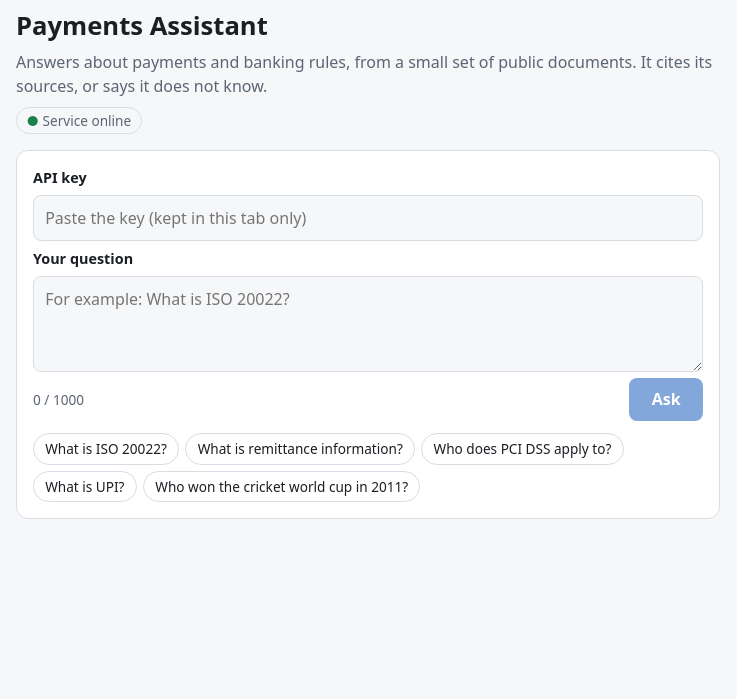
Test: the page › shows a refusal as a refusal, with the reason
Type "Who won?" into the text box labelled "Your question". click: (368, 324)
box: [33,276,703,372]
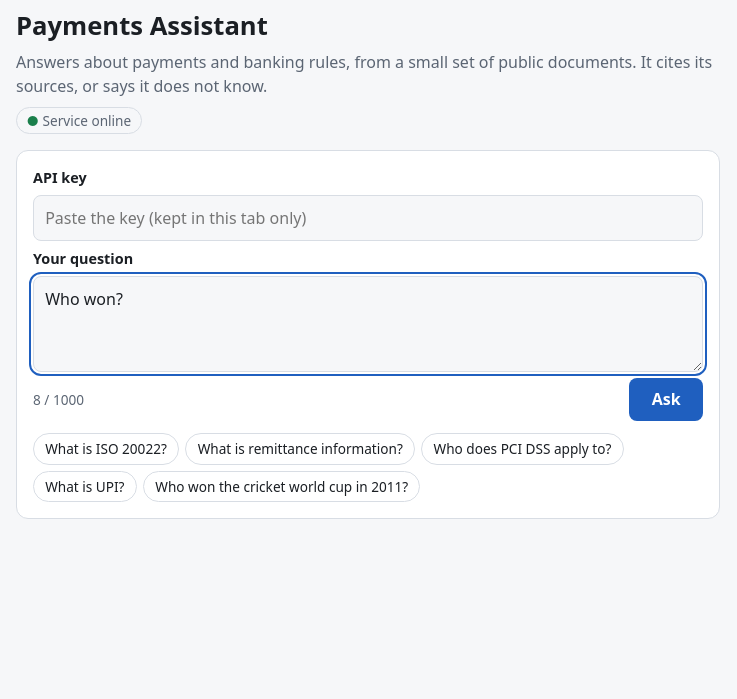
Click the button "Ask". click: (666, 400)
box: [629,378,703,421]
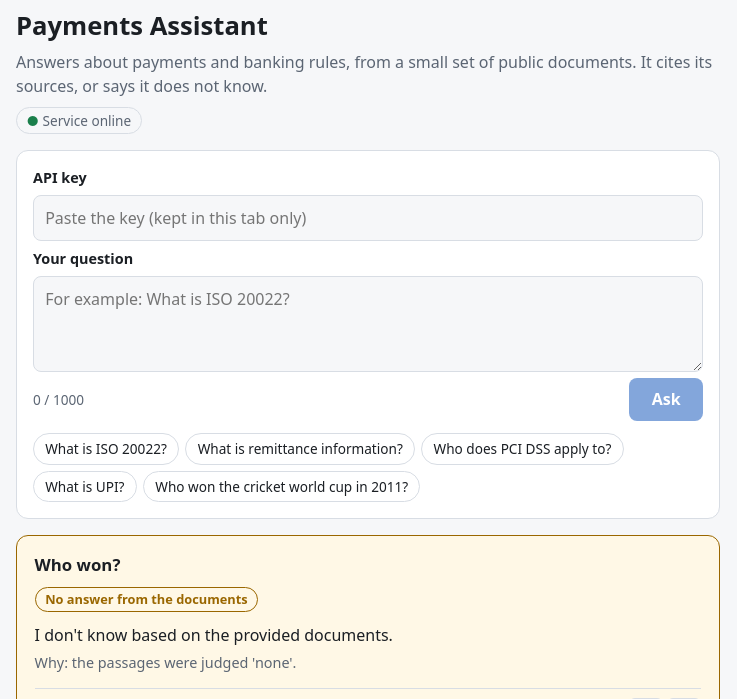
Expected: the text "No answer from the documents" is shown, [35,587,258,612]
Expected: the text "Why: the passages were judged 'none'." is shown, [35,653,296,672]
